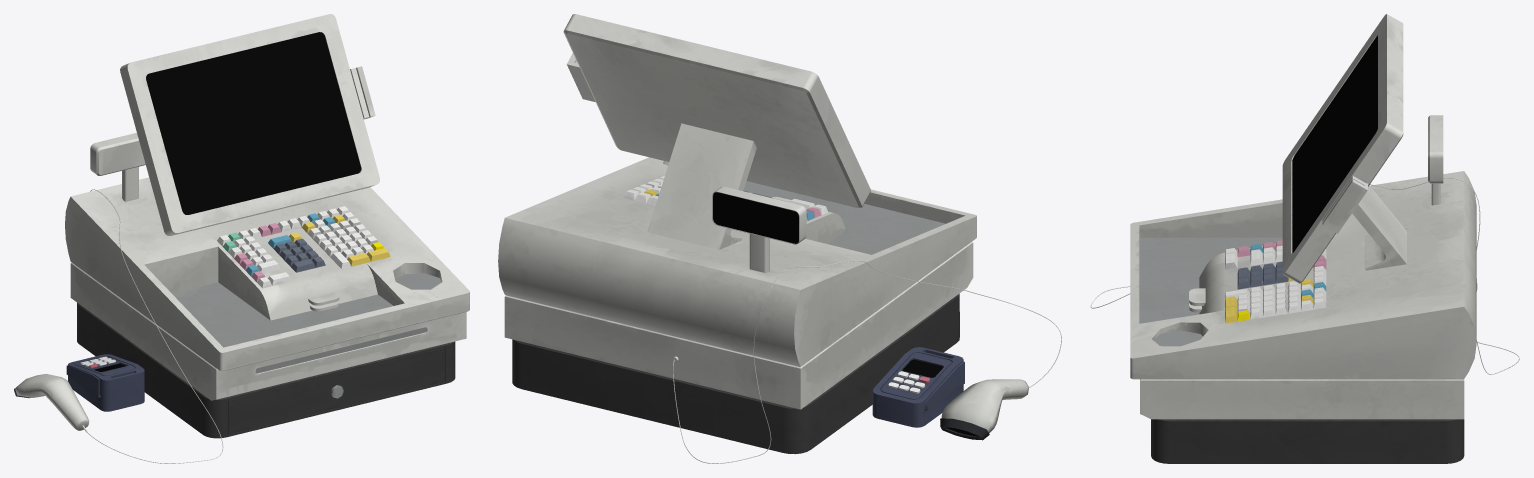
File: model03_casher.glb
3 renders of one model, left to right at view 1: azimuth 30°, elevation 25°; view 2: azimuth 150°, elevation 25°; view 3: azimuth 270°, elevation 25°, orthographic. The views are drawn at different scales.
Parts seen in each view (by area): view 1: casher; view 2: casher; view 3: casher.
Boxes of the visible parts, box(x1,y1,x2,y2) form: casher: box(14, 14, 469, 463); casher: box(498, 14, 1061, 463); casher: box(1090, 14, 1519, 463).
Bounding box in the file's own units: 1.57 × 1.24 × 1.47.
Materials: 2 (2 with a texture image).
